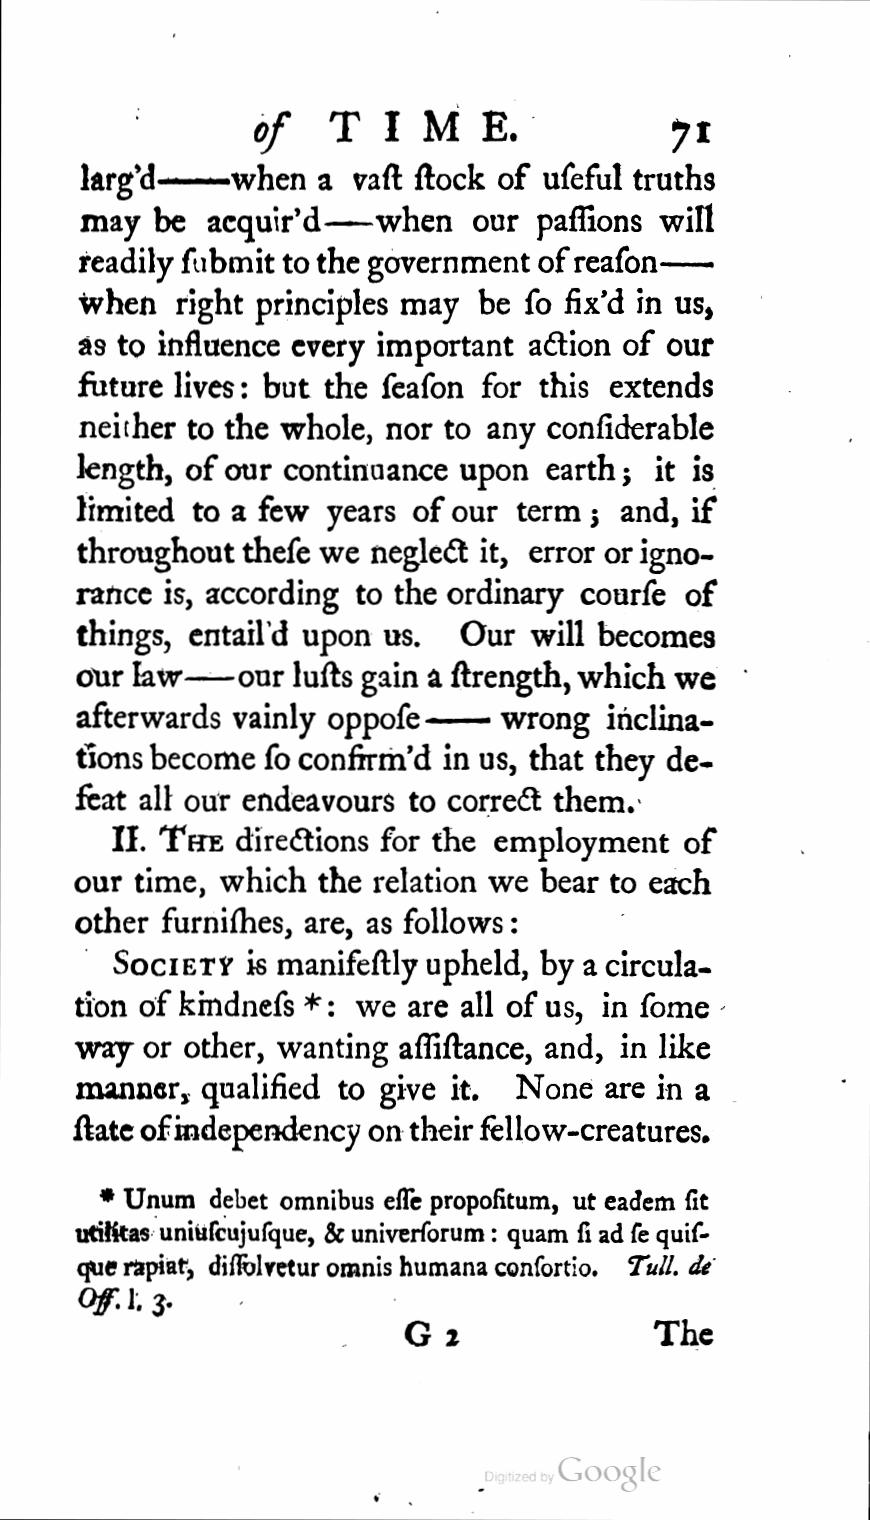bottom_p: (70, 159, 723, 820)
catchword: (650, 1319, 718, 1350)
footnotes: (69, 1185, 718, 1319)
full_p: (71, 821, 722, 943)
header: (246, 103, 522, 156)
page_num: (664, 115, 716, 156)
signature: (403, 1319, 462, 1353)
top_p: (71, 945, 721, 1156)
